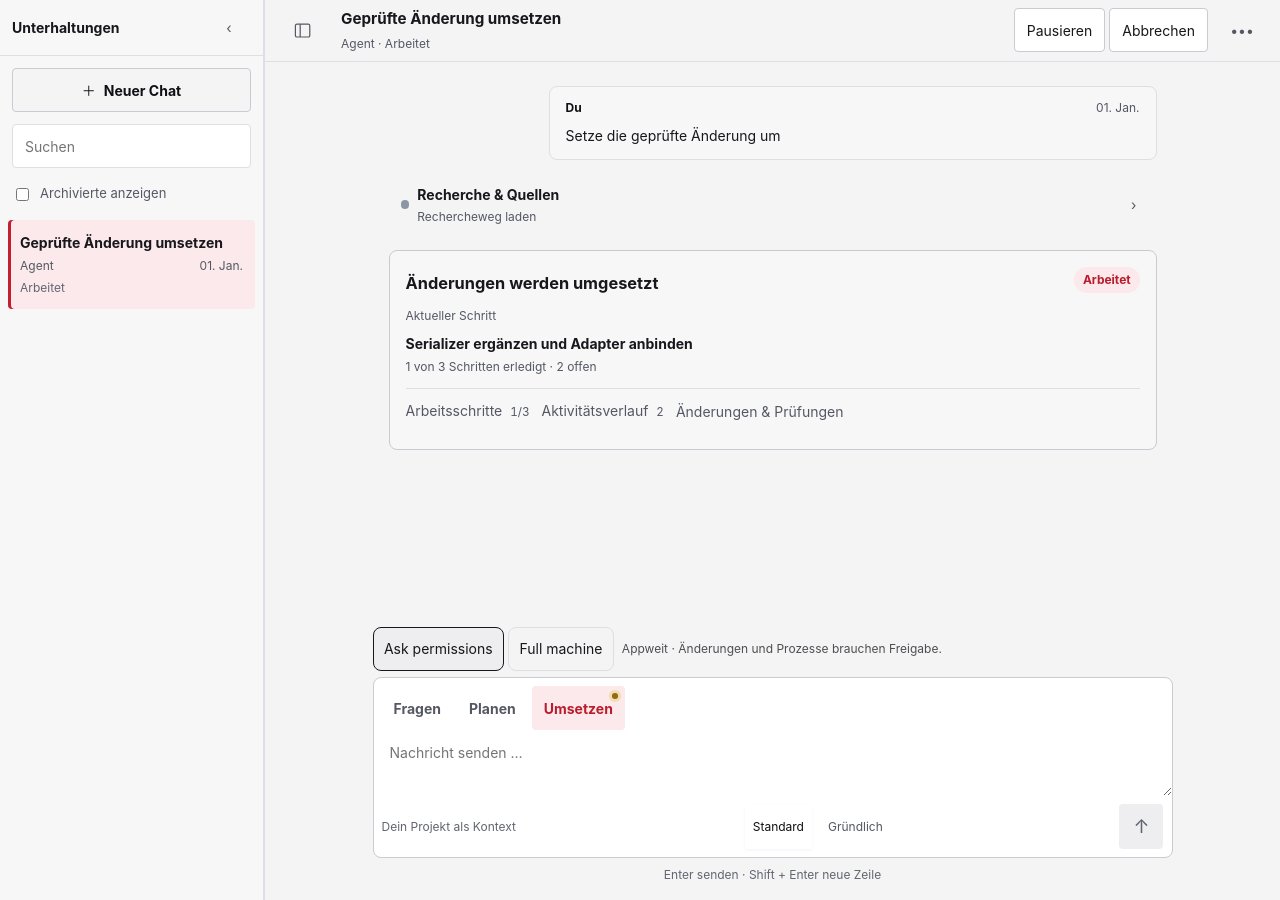
it: AgentWorkspace › retains the draft and approval choice across dock switches and resets on another task
Type "Bitte auch den Randfall prüfen." into the text box named "Nachricht an A^3" at (772, 763), box [374,730,1172,796]
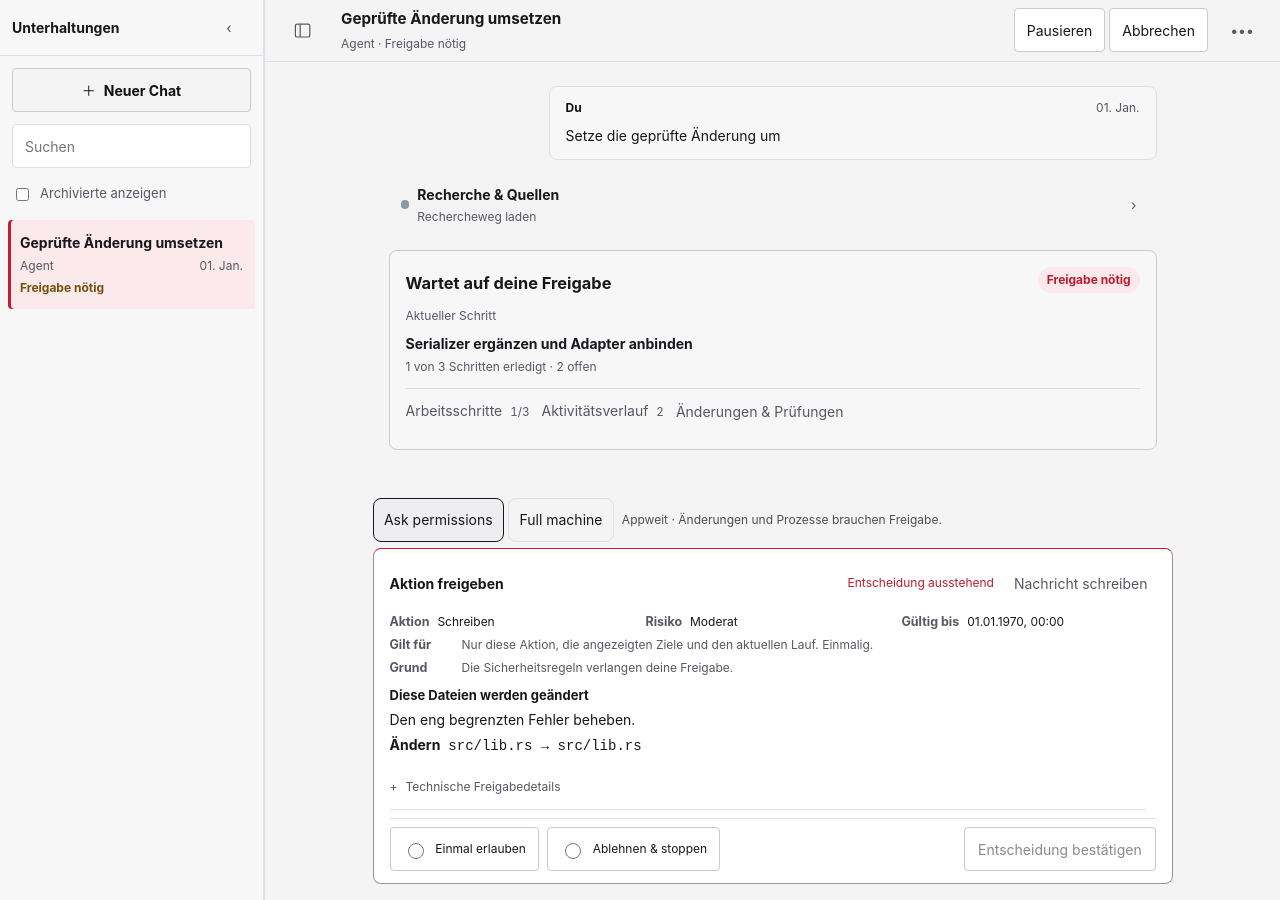
Check: the radio button with aria-label "Diese Aktion einmal erlauben" is not checked
Check: the button "Entscheidung bestätigen" is disabled, box [964,827,1156,871]
Click the radio button with aria-label "Diese Aktion einmal erlauben" at (416, 850), box [408,842,424,858]
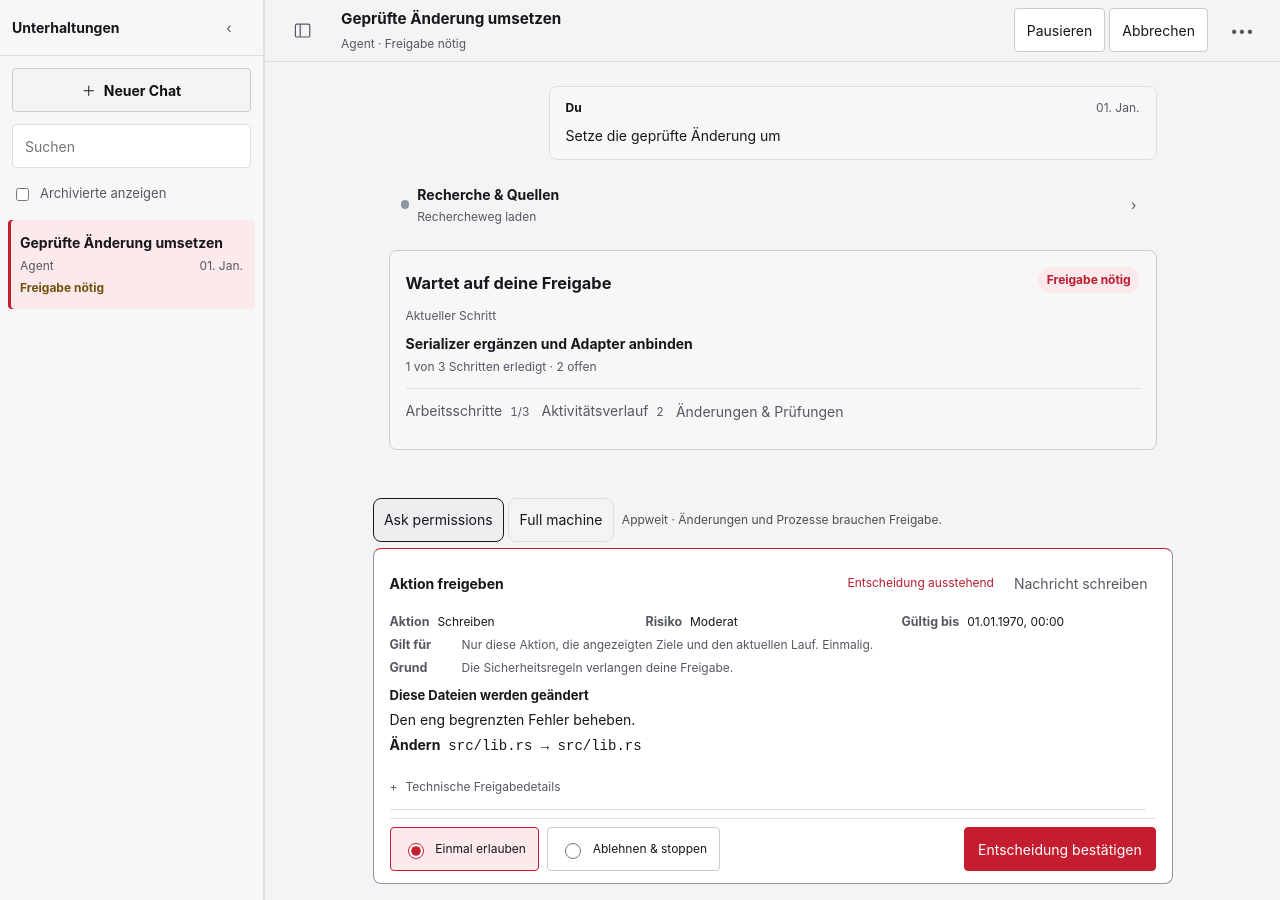
Click the button "Nachricht schreiben" at (1081, 583), box [1006,561,1156,605]
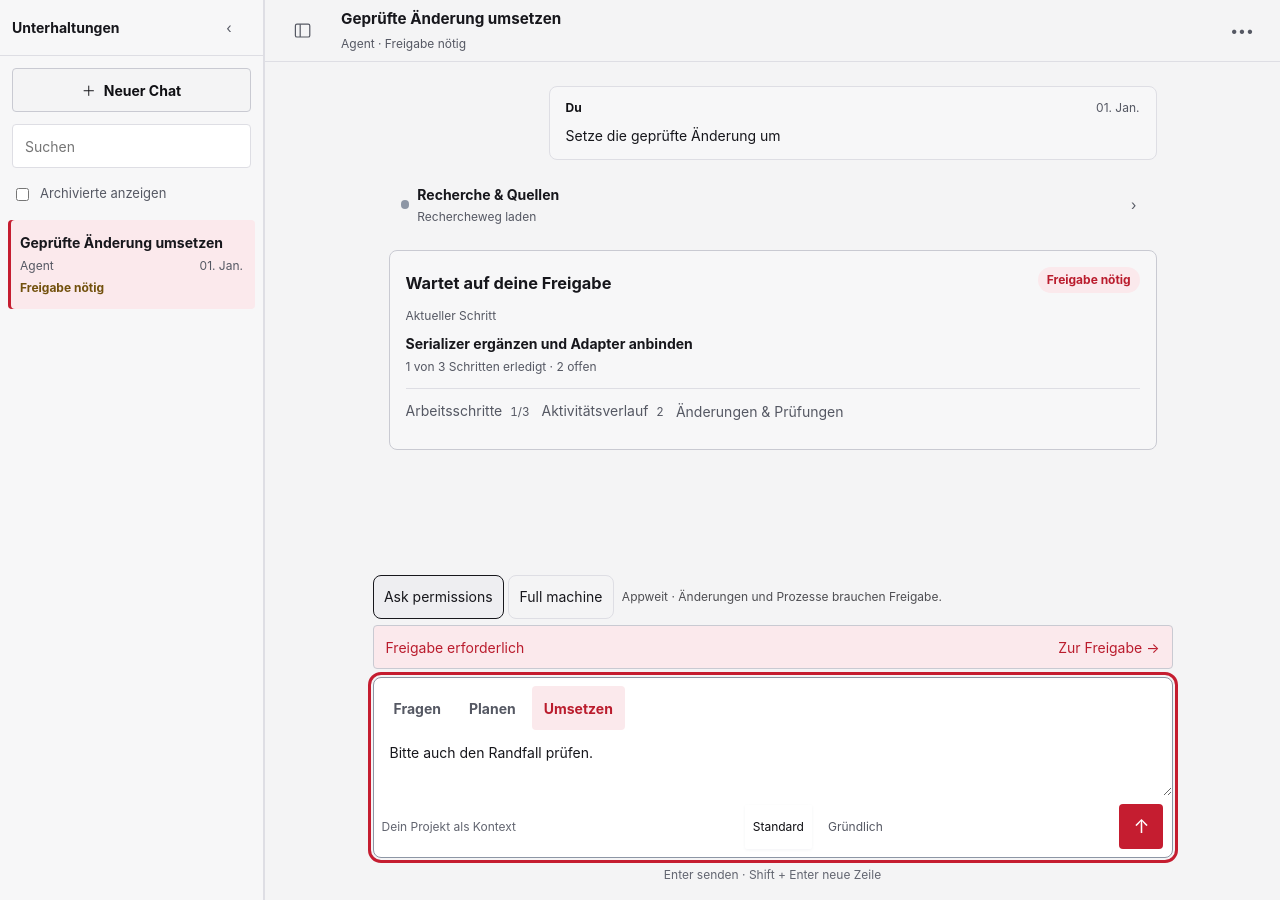
Click the button "Freigabe erforderlich Zur Freigabe →" at (455, 647), box [372,625,1172,669]
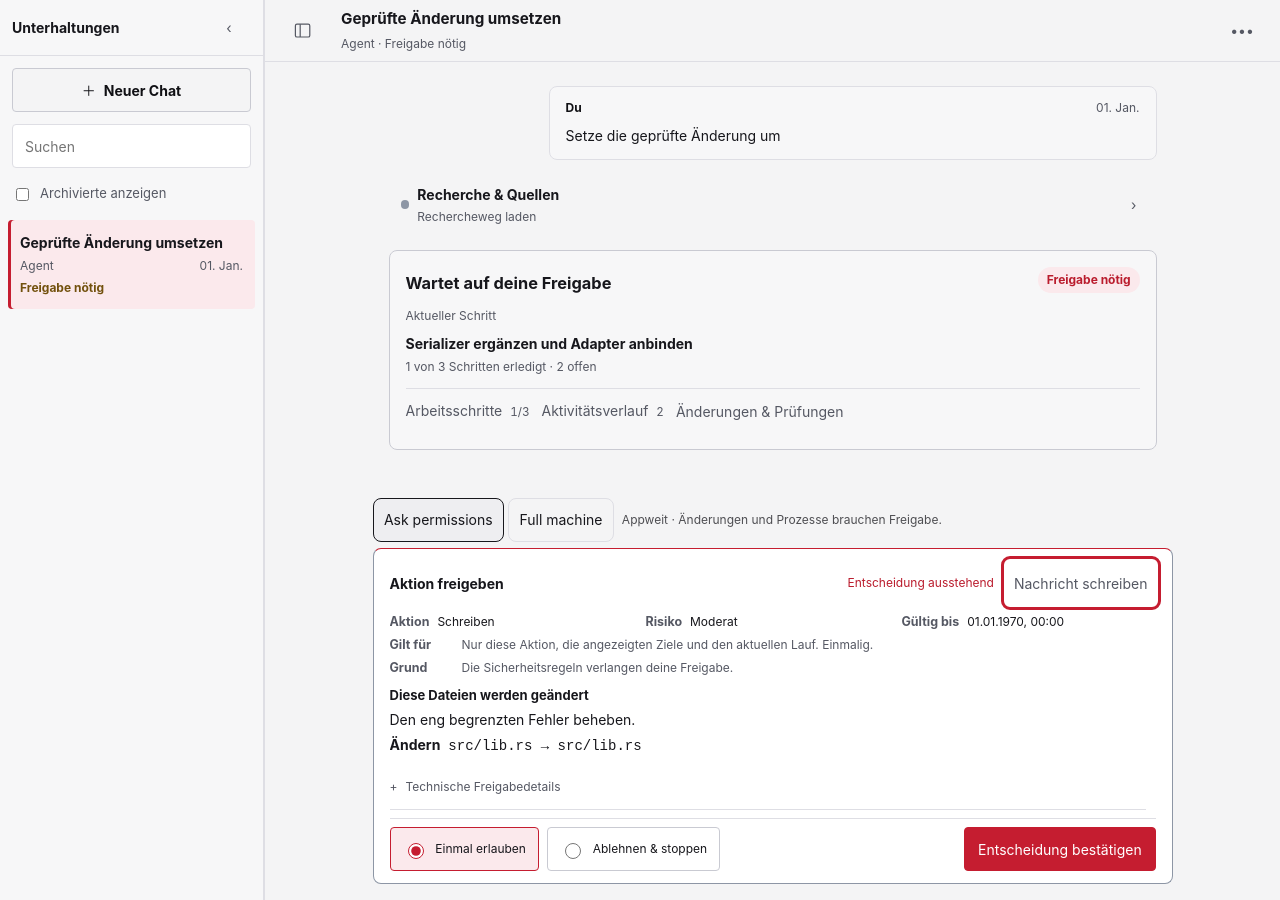
Check: the radio button with aria-label "Diese Aktion einmal erlauben" is checked, box [408,842,424,858]
Click the button "Nachricht schreiben" at (1081, 583), box [1006,561,1156,605]
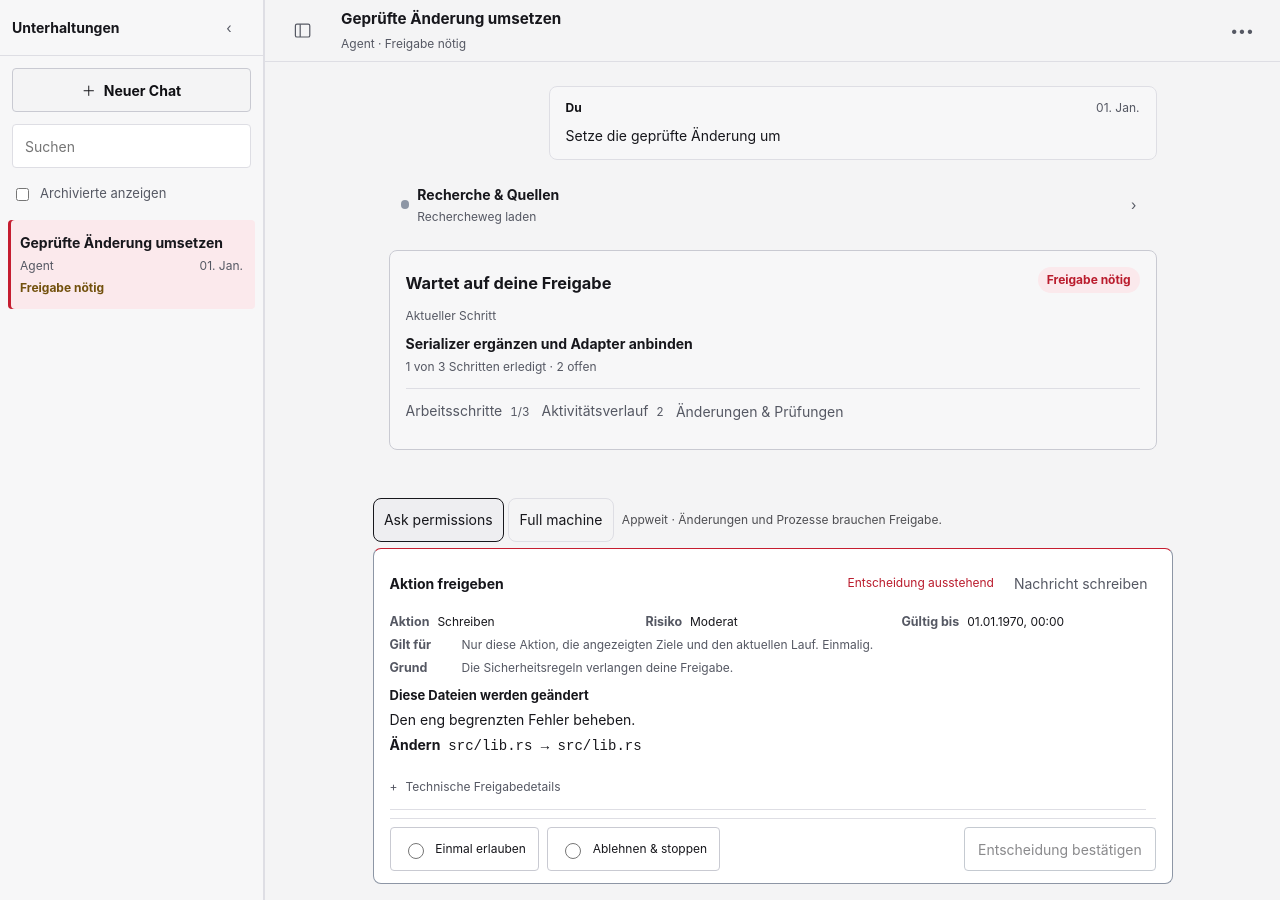
Check: the radio button with aria-label "Diese Aktion einmal erlauben" is not checked, box [408,842,424,858]
